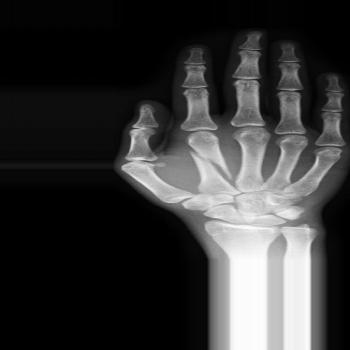Fracture: (184, 148, 235, 184)
